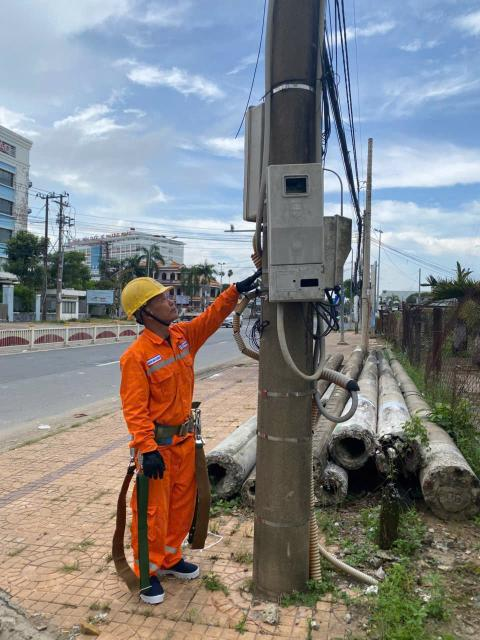gloves: (225, 262, 280, 308), (132, 444, 173, 487)
harness: (131, 404, 214, 447)
helmet: (111, 274, 179, 324)
shoes: (152, 552, 212, 581), (130, 565, 168, 608)
